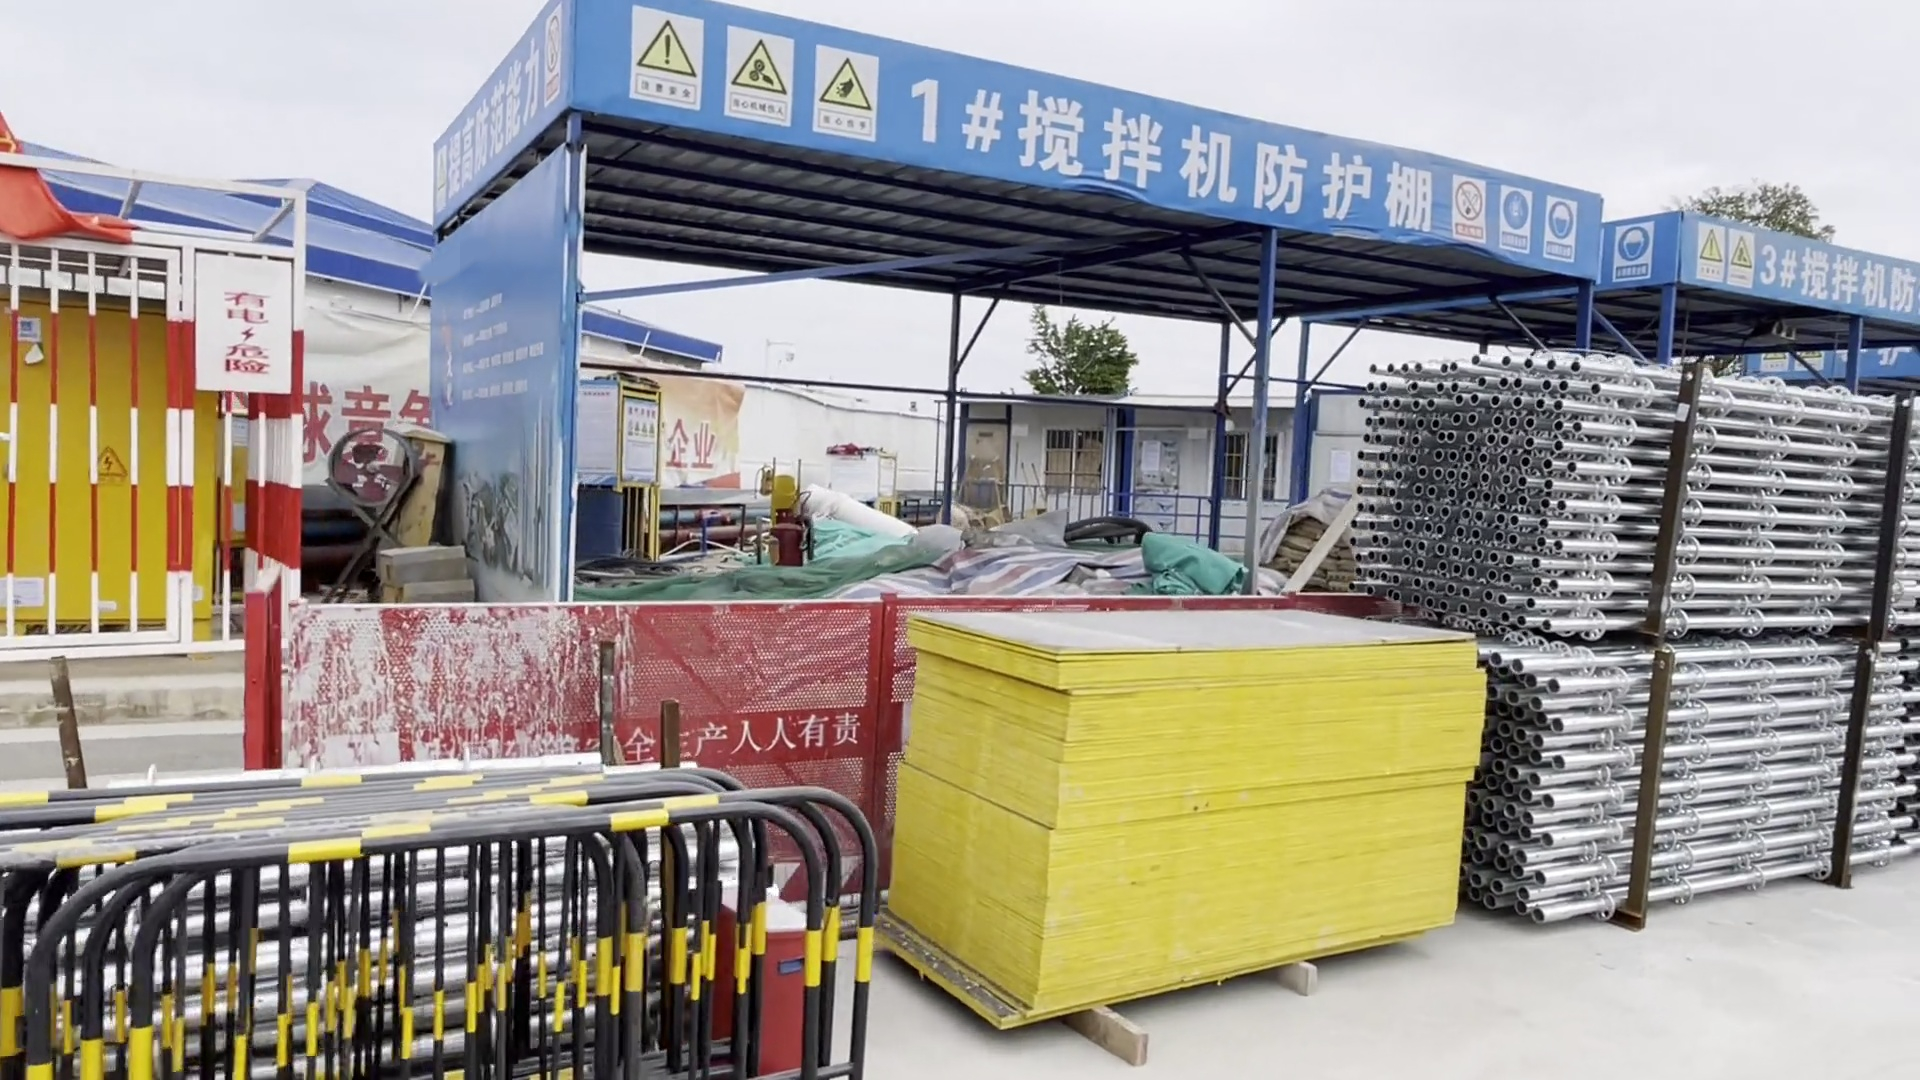board: (874, 596, 1452, 1007)
ebox: (1, 313, 233, 621)
fence: (4, 778, 872, 1080), (273, 603, 887, 808)
scaffold: (1352, 382, 1920, 913)
slogan: (1433, 171, 1754, 293), (621, 13, 895, 149), (427, 18, 582, 193)
